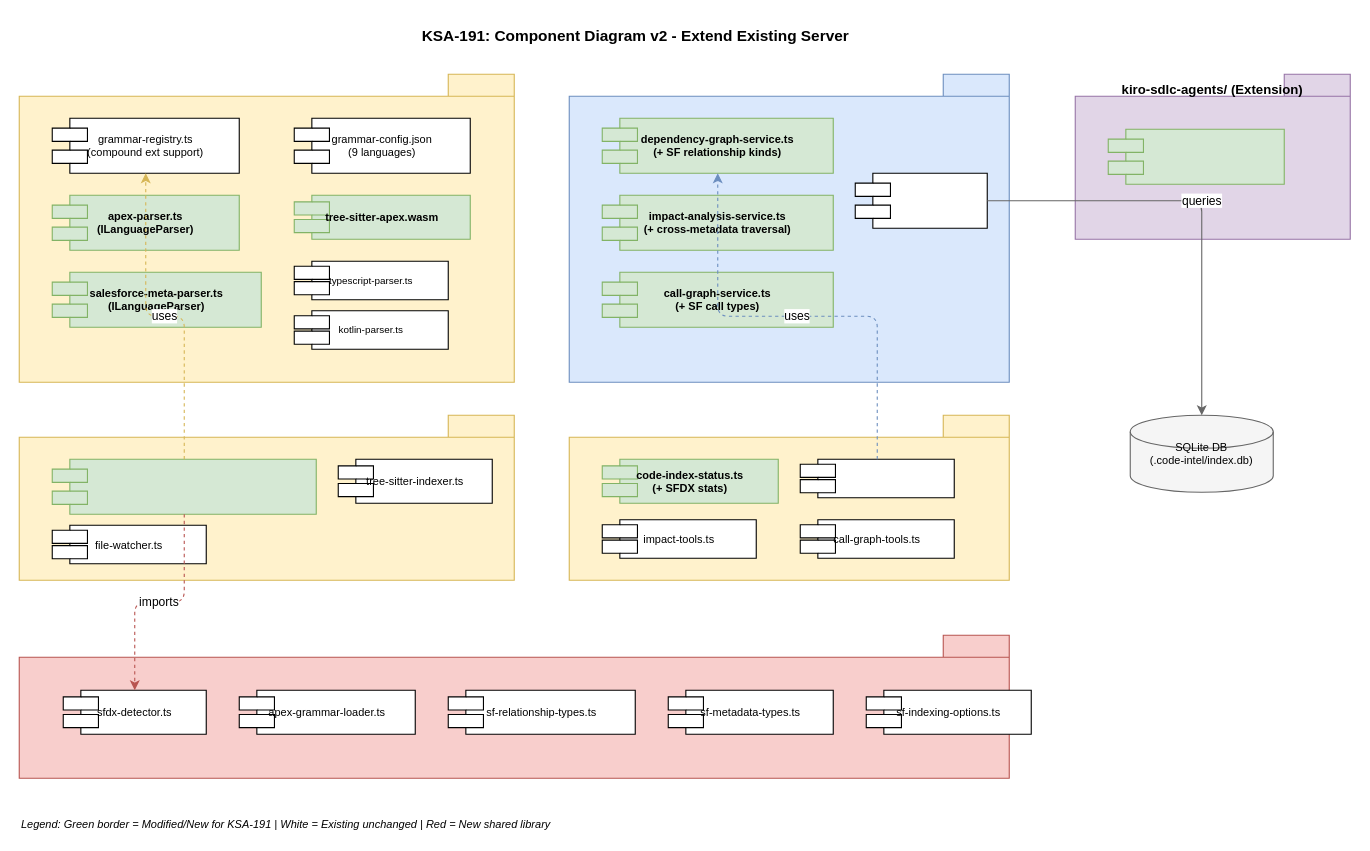
Image size: 1370x851. Some labels were removed from this diagram. The box of each missing label's shape, as (x1, y1, x2, y2) in pixels:
dependency-tools.ts: (799, 458, 954, 498)
GraphRepository (SQLite - unchanged): (854, 172, 987, 228)
index-salesforce.ts (NEW command): (1107, 128, 1284, 184)
indexing-engine.ts (SFDX detection + SF module mapping): (51, 458, 316, 514)
mcp-salesforce-intelligence/ (Shared Library): (18, 634, 1009, 778)
src/graph/: (568, 73, 1009, 382)
src/indexer/: (18, 414, 514, 580)
src/parsers/: (18, 73, 514, 382)
src/tools/: (568, 414, 1009, 580)
